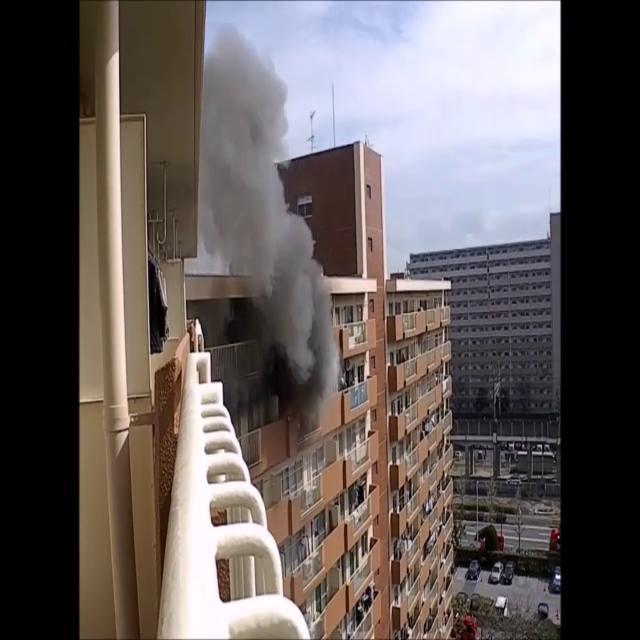Smoke: (195, 19, 341, 424)
